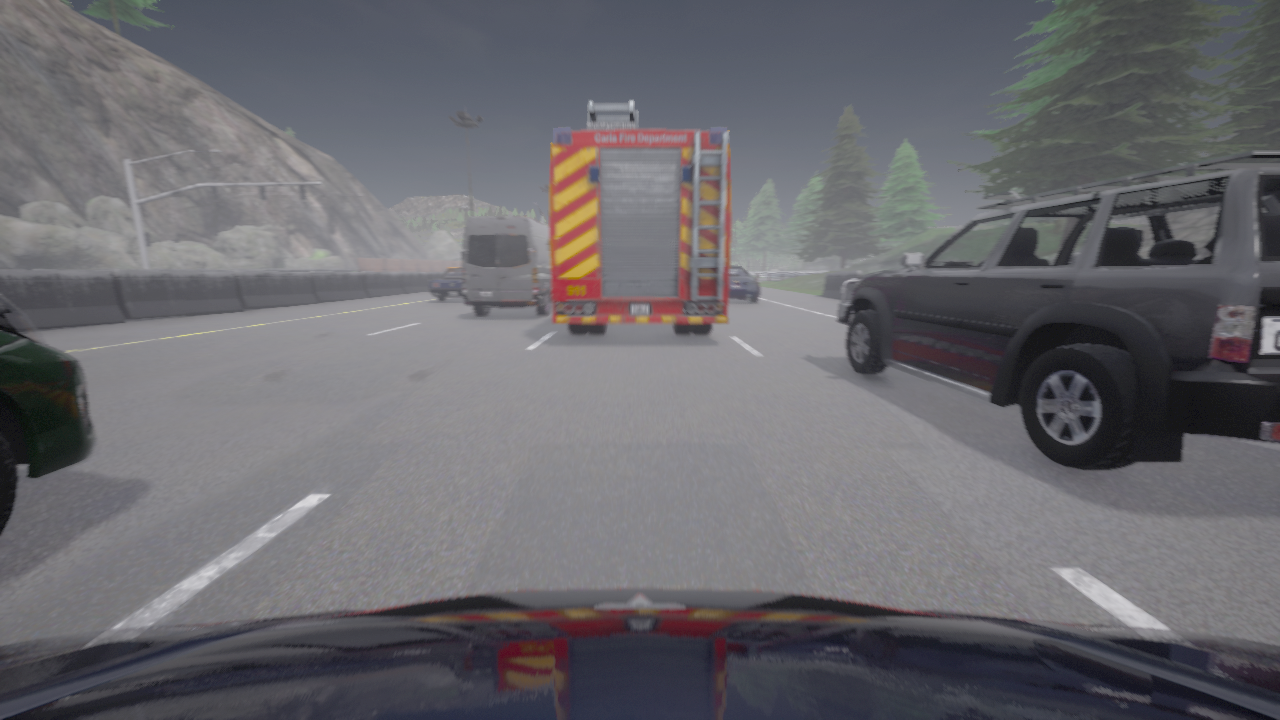cyclist: (0, 588, 1279, 719), (837, 151, 1279, 471), (550, 101, 730, 334), (462, 217, 552, 315), (428, 268, 462, 301), (728, 266, 759, 302)
